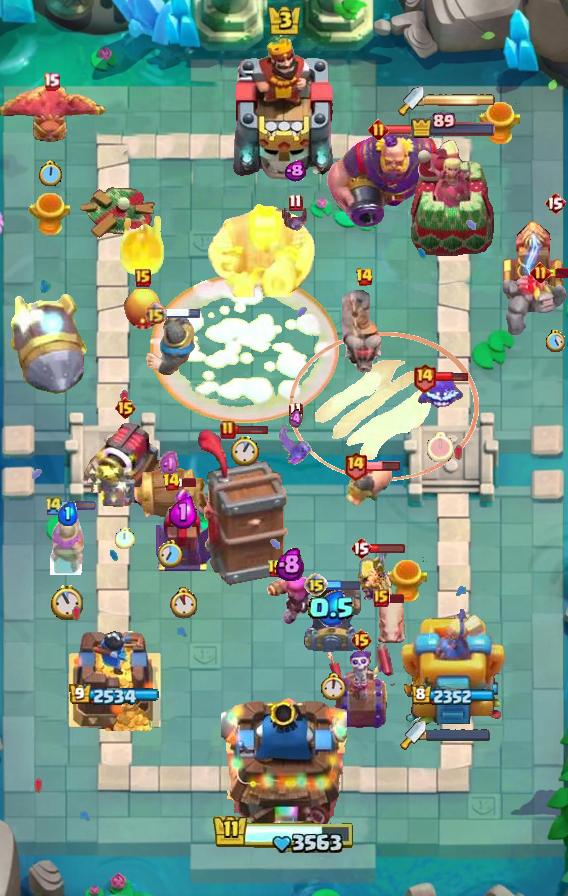arrows: (356, 553, 397, 601)
bar: (401, 601, 505, 731), (409, 138, 497, 256)
barbarian: (277, 422, 313, 468)
barbarian-barrel: (280, 205, 310, 231)
bomb-tower: (49, 511, 86, 575)
clock: (212, 814, 356, 856)
dart-goblin: (196, 428, 287, 586)
electro-spirit: (308, 589, 356, 626), (276, 547, 304, 581), (169, 496, 197, 529), (159, 450, 181, 478), (57, 502, 78, 527), (284, 160, 306, 182), (290, 409, 303, 429)
elite-barbarian: (342, 289, 386, 375)
elixir: (51, 584, 83, 620), (169, 587, 200, 619), (231, 434, 259, 465), (427, 432, 453, 462), (158, 540, 183, 568), (39, 160, 63, 188), (320, 672, 344, 700), (115, 527, 135, 549), (546, 330, 565, 352)
emote: (166, 307, 203, 320), (327, 578, 362, 591), (365, 460, 401, 472), (435, 371, 470, 383), (386, 124, 422, 135), (234, 425, 270, 436), (61, 500, 97, 511), (370, 542, 406, 553), (178, 476, 198, 487), (386, 593, 406, 604), (548, 268, 568, 278)
executioner: (346, 462, 392, 506)
firecracker: (145, 315, 196, 375)
giant: (373, 594, 407, 650)
giant-skeleton: (207, 203, 317, 297)
goblin-brawler: (500, 218, 568, 304)
golem: (82, 423, 168, 507)
hog: (123, 287, 163, 331)
ice-spirit-evolution-symbol: (151, 486, 215, 574)
ice-wizard: (289, 331, 479, 481)
king-tower: (221, 690, 347, 826), (228, 35, 340, 181)
king-tower-bar: (424, 93, 496, 107), (426, 729, 490, 741)
lightning: (326, 131, 462, 229)
mother-witch: (0, 81, 114, 147)
musketeer: (302, 588, 362, 652)
phoenix-big: (150, 273, 340, 423)
queen-tower: (66, 621, 162, 731)
selected: (411, 112, 498, 140), (68, 685, 159, 708), (411, 685, 495, 707)
skeleton-king-bar: (327, 644, 395, 730)
spear-goblin: (416, 373, 464, 413)
text: (344, 450, 369, 481), (412, 363, 437, 393), (114, 396, 138, 420), (304, 573, 328, 597), (351, 628, 374, 652), (145, 302, 168, 325), (544, 191, 566, 215), (350, 536, 372, 560), (367, 119, 389, 140), (529, 261, 550, 282), (44, 495, 64, 517), (354, 267, 374, 287), (162, 472, 182, 492), (267, 559, 285, 579), (220, 420, 236, 440), (43, 73, 60, 91), (135, 269, 151, 287), (373, 589, 389, 607), (289, 192, 304, 211), (289, 400, 304, 419)
the-log: (130, 464, 210, 524)
tombstone: (267, 570, 313, 626)
valkyrie: (112, 210, 168, 280)
valkyrie-evolution: (502, 274, 568, 336)
x-bow: (8, 292, 88, 396)
